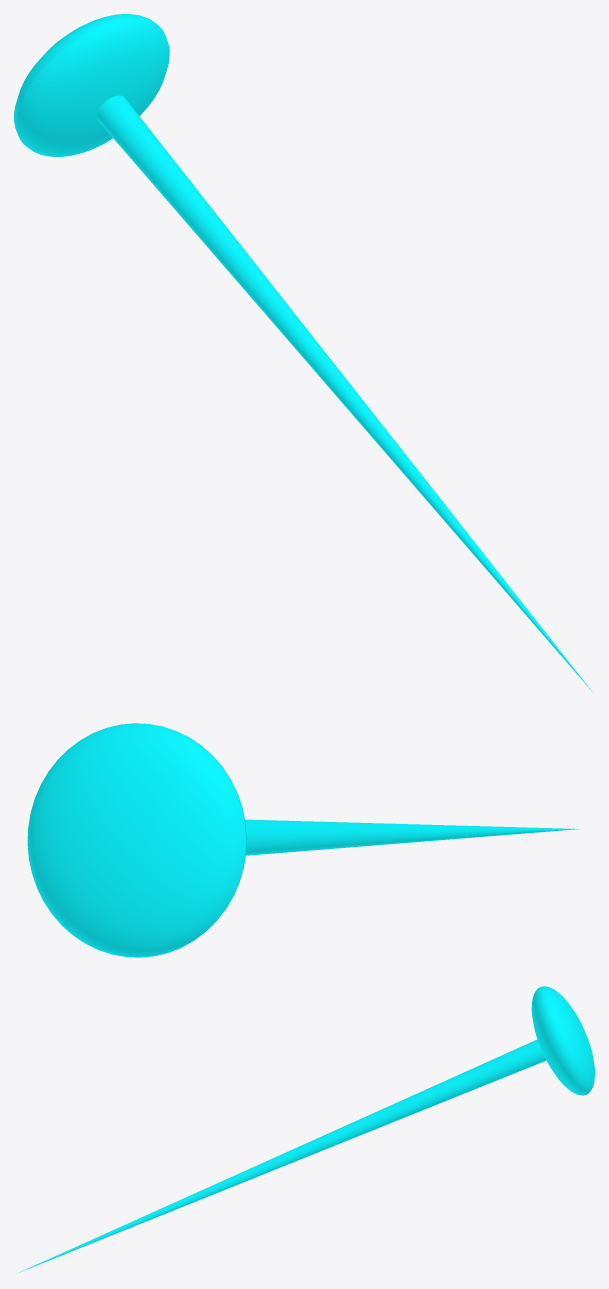
Rendered from viking1.glb.
3 views of the same model, one above another, from view 1: azimuth 30°, elevation 25°; view 2: azimuth 150°, elevation 25°; view 3: azimuth 270°, elevation 25° (orthographic). The views are drawn at different scales.
Visible parts, largest first — view 1: polySurface1; view 2: polySurface1; view 3: polySurface1.
Boxes of the visible parts, box(x1,y1,x2,y2) form: polySurface1: box(14, 14, 593, 693); polySurface1: box(27, 723, 578, 957); polySurface1: box(16, 986, 594, 1273).
Bounding box in the file's own units: 0.000203 × 0.000485 × 0.000991.
